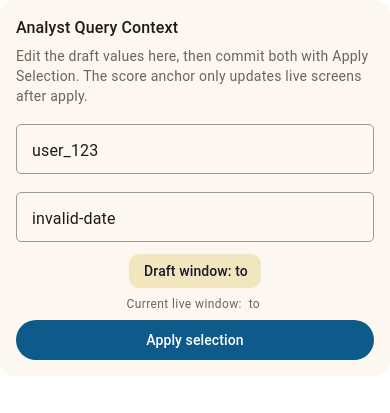
Scenario: QueryControlsCard › blocks apply when the score anchor is not a valid ISO date
Click the button with test id "query-controls-apply-button".
click(195, 340)  # box [16, 320, 374, 360]
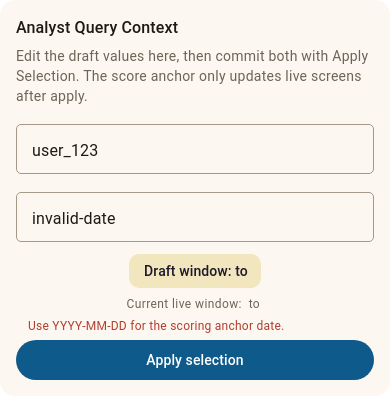
expect the text "Current live window: to" is shown: met, box [126, 296, 264, 312]
expect the text "Use YYYY-MM-DD for the scoring anchor date." is shown: met, box [28, 319, 284, 333]
